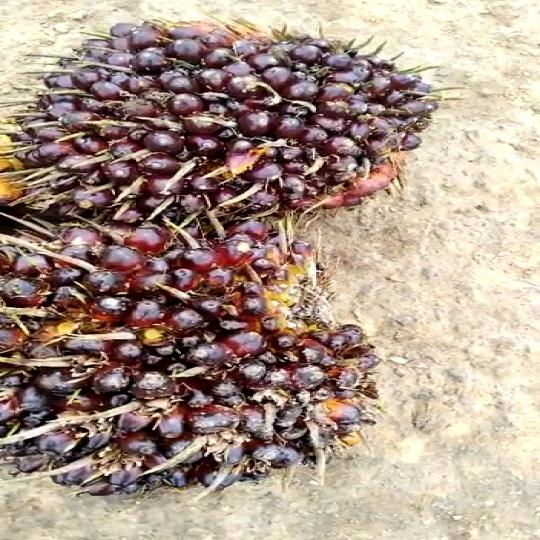kurang masak: (0, 214, 430, 491), (0, 0, 446, 248)
